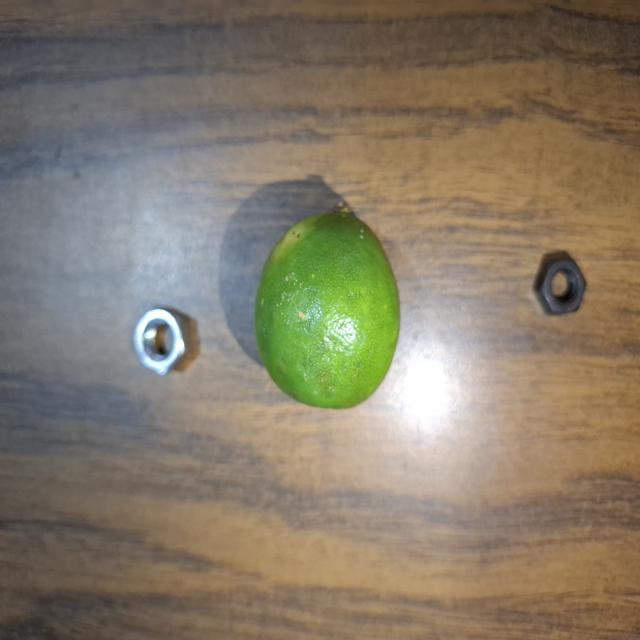limon: (253, 198, 406, 416)
milimetrico: (529, 249, 593, 326)
tuerca: (124, 301, 205, 389)
